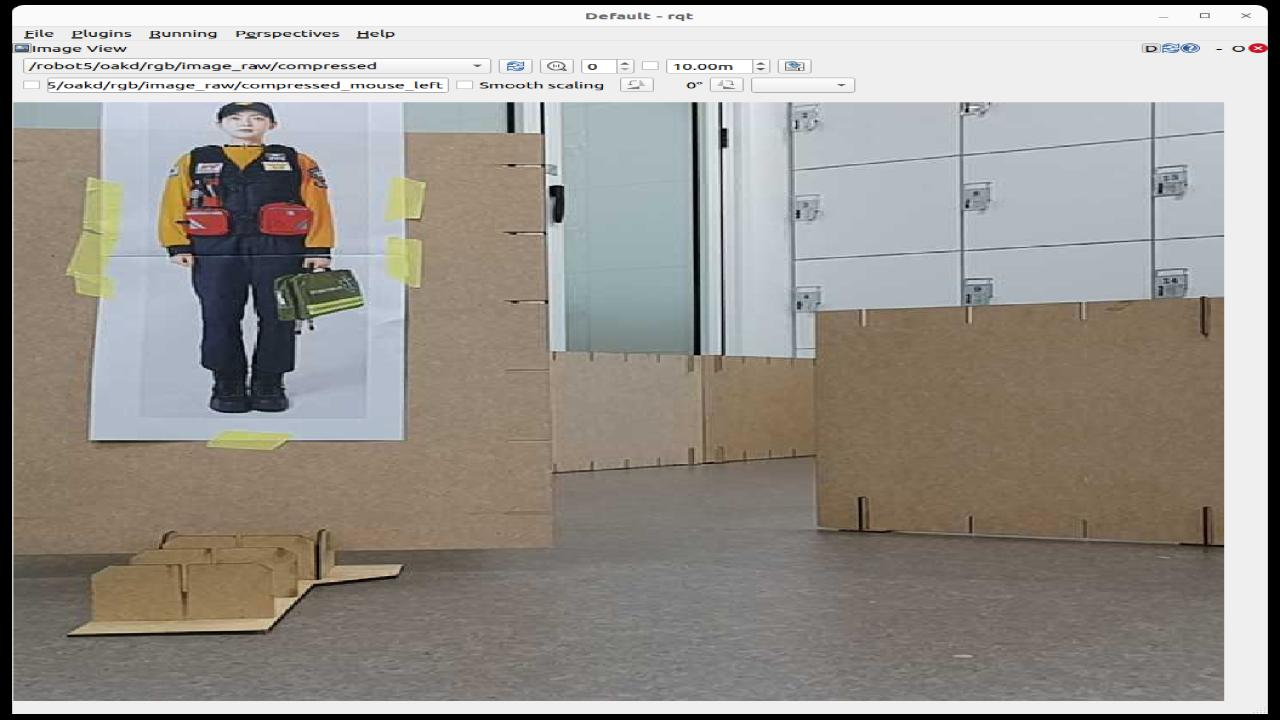Responder: (158, 102, 334, 412)
